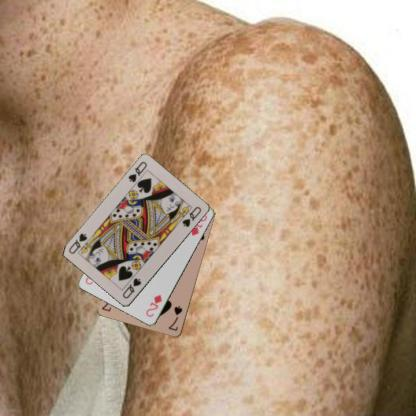2d: (143, 292, 163, 318)
7s: (166, 303, 184, 332)
Qs: (120, 275, 143, 300), (125, 159, 148, 184)
